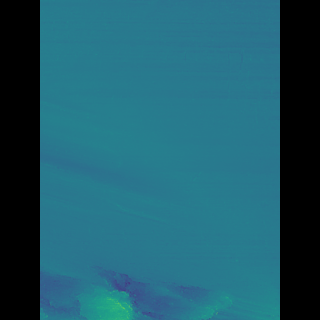Loch: (69, 261, 227, 319)
